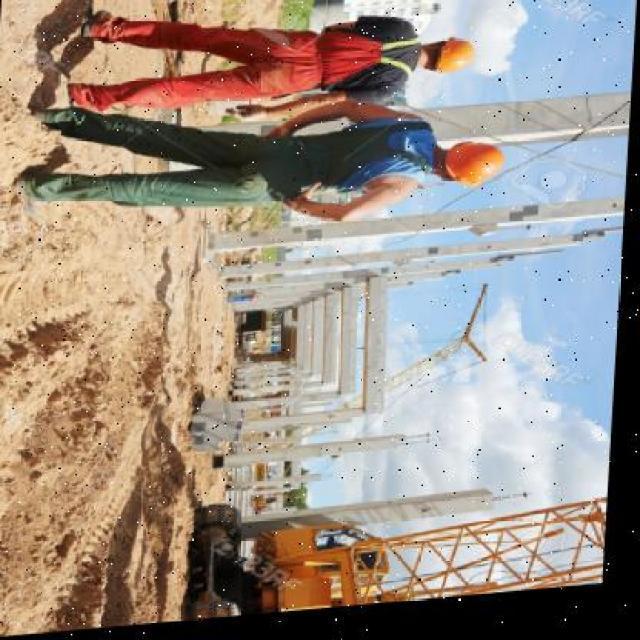helmet: (446, 141, 504, 203), (429, 37, 483, 87)
